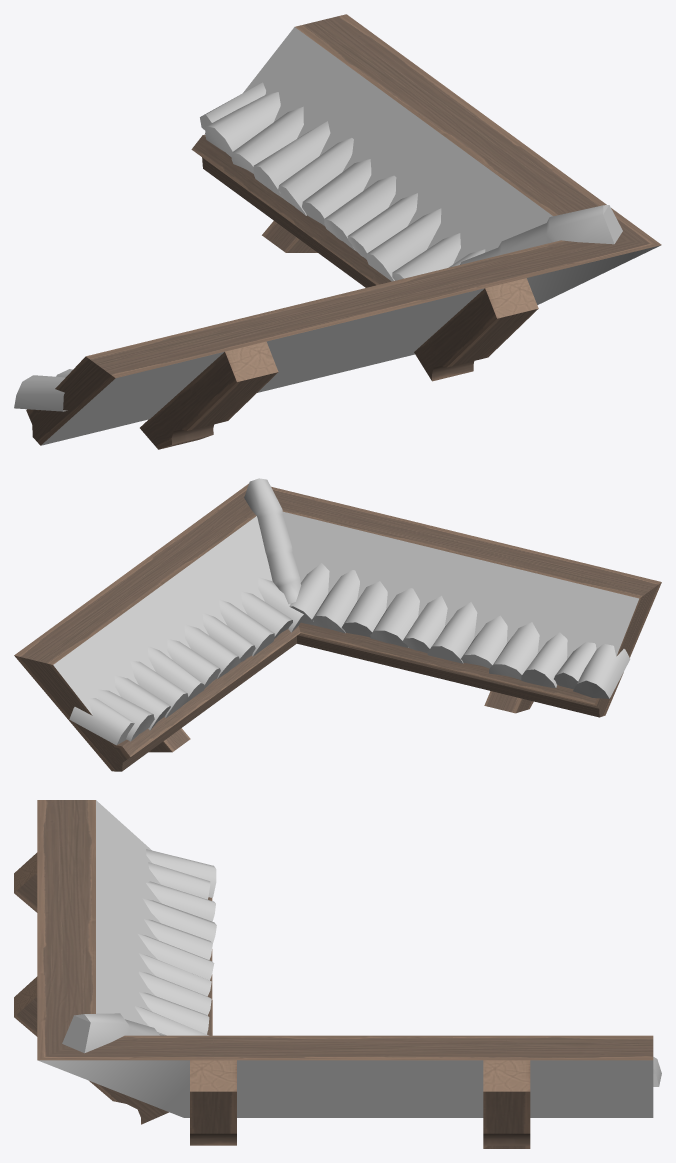
The model's file is SM_HouseRoof_Angle_Overhang_02.fbx.
The picture shows the model from 3 angles, top to bottom: view 1: azimuth 30°, elevation 25°; view 2: azimuth 150°, elevation 25°; view 3: azimuth 270°, elevation 25°; orthographic projection. The views are drawn at different scales.
Visible parts, largest first — view 1: SM_HouseRoof_Angle_Overhang_02_LOD0; view 2: SM_HouseRoof_Angle_Overhang_02_LOD0; view 3: SM_HouseRoof_Angle_Overhang_02_LOD0.
Boxes of the visible parts, left/top/right/bottom form: SM_HouseRoof_Angle_Overhang_02_LOD0: left=14, top=14, right=661, bottom=449; SM_HouseRoof_Angle_Overhang_02_LOD0: left=14, top=478, right=661, bottom=771; SM_HouseRoof_Angle_Overhang_02_LOD0: left=14, top=800, right=661, bottom=1148.
Size of what is drawn, in the model's own units: 5.6 by 1.63 by 5.52.
